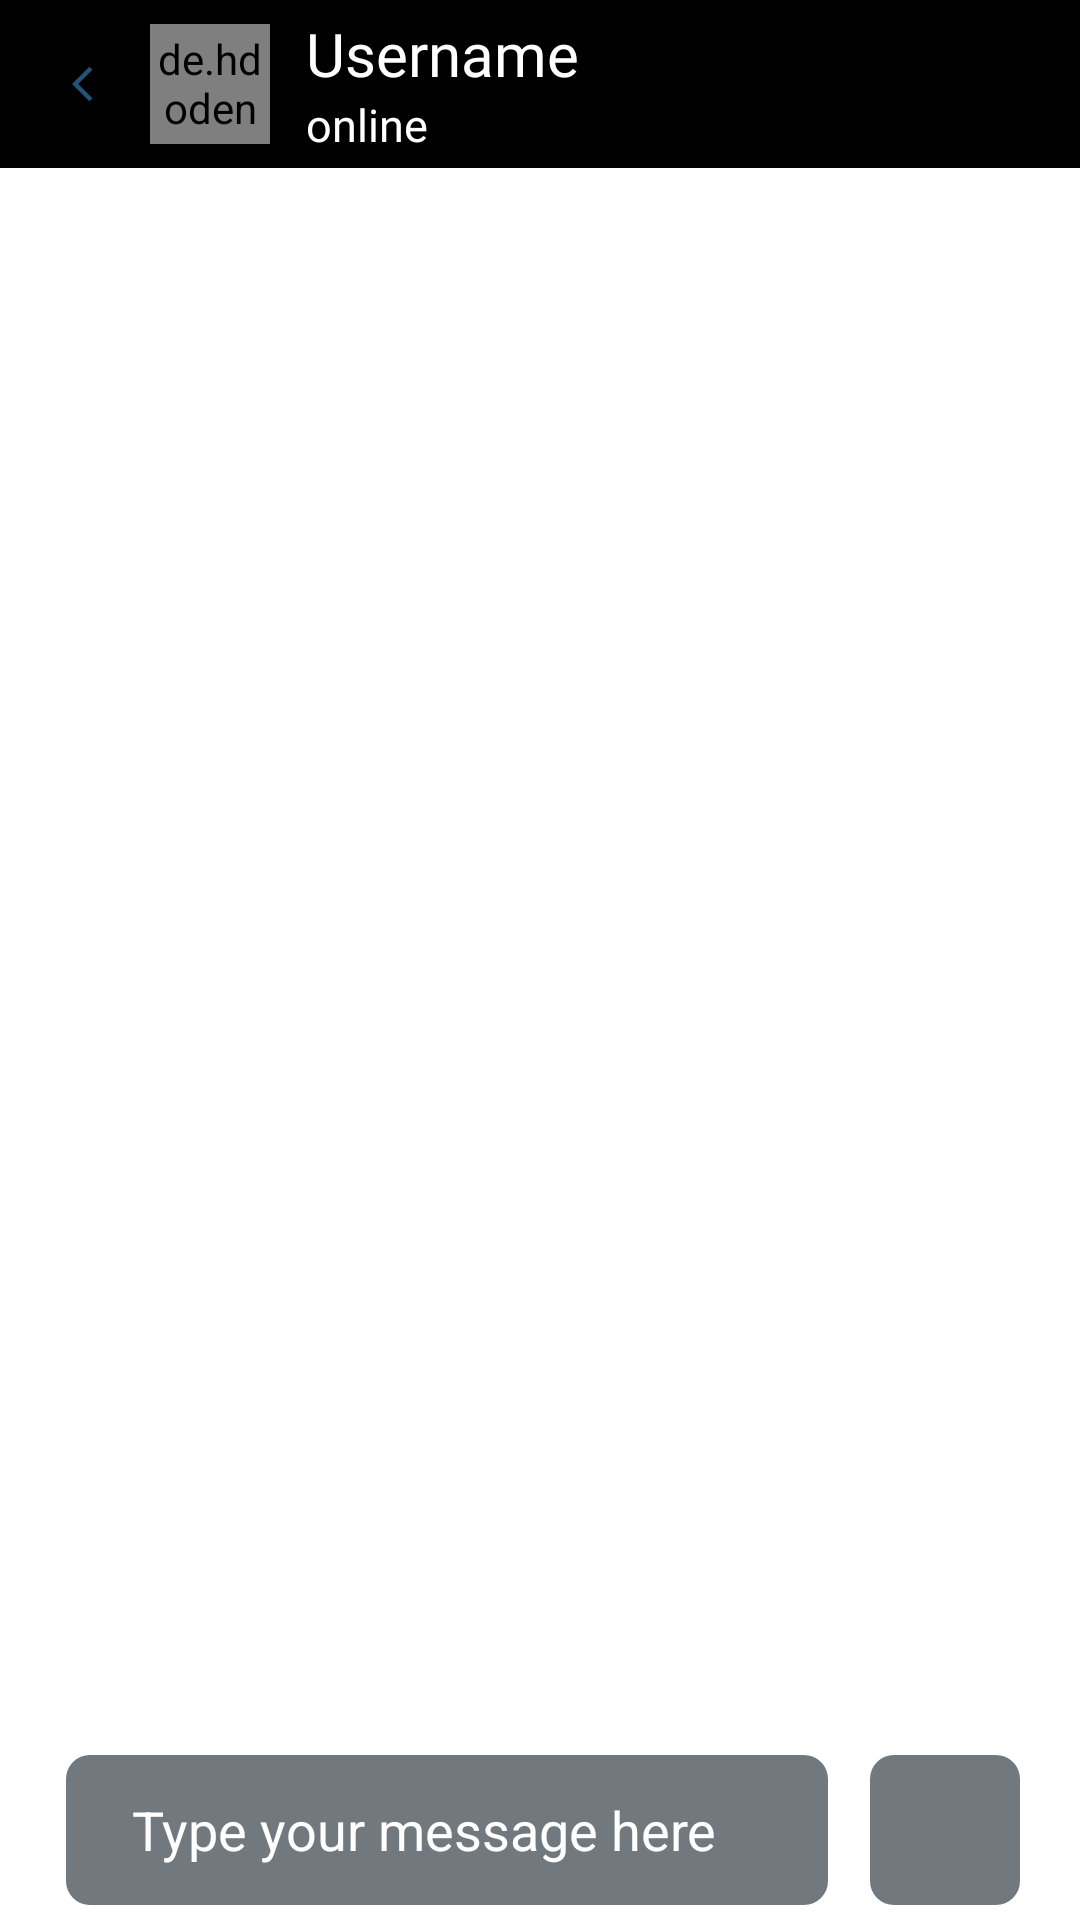

Icons on this 1080x1920 Android screen, each with its box as Rect(x1, y1, x2, y2):
arrow back: Rect(72, 67, 92, 101)
